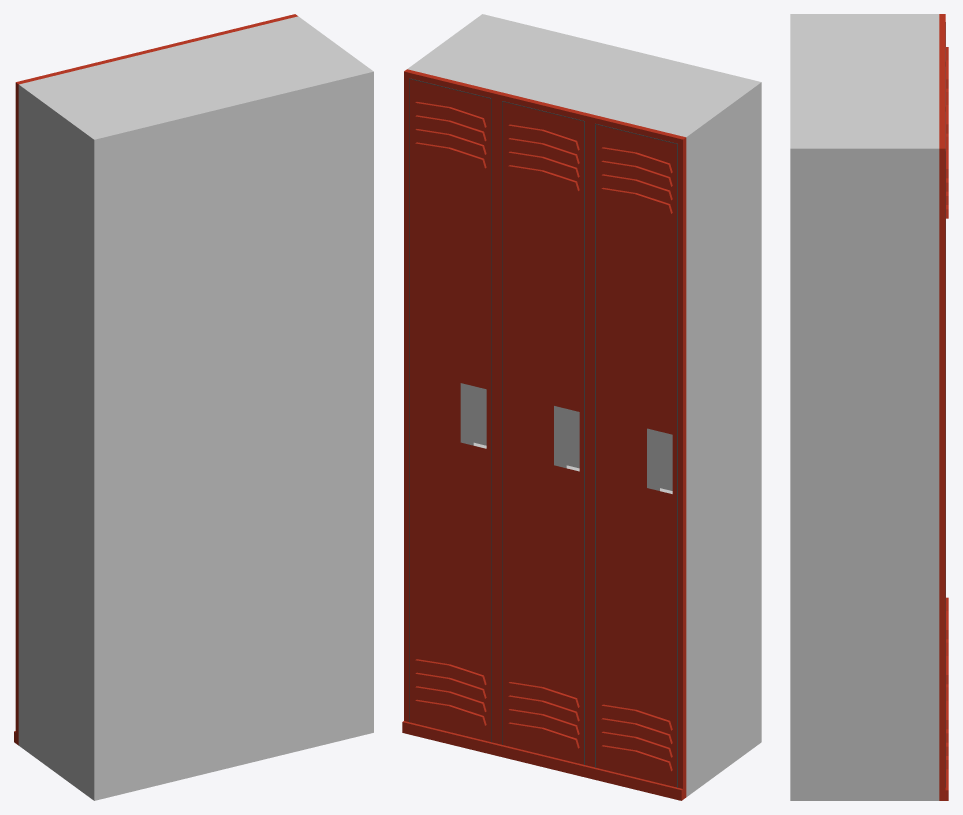
Rendered from locker_b.fbx.
3 views of the same model, side by side, from view 1: azimuth 30°, elevation 25°; view 2: azimuth 150°, elevation 25°; view 3: azimuth 270°, elevation 25° (orthographic).
Visible parts, largest first — view 1: Cube, 30:1, 43:1; view 2: Cube, 30:1, 2:1, 16:1, 44:1, Cube.001, Cube.003, Cube.002, 1:1, 29:1, 15:1, 43:1 (+24 smaller); view 3: Cube, 2:1, 43:1, 1:1.
Boxes of the visible parts, x1=… form: Cube: x1=18, y1=16, x2=373, y2=800; 30:1: x1=15, y1=59, x2=110, y2=734; 43:1: x1=16, y1=14, x2=297, y2=84; Cube: x1=407, y1=14, x2=761, y2=796; 30:1: x1=590, y1=116, x2=686, y2=788; 2:1: x1=404, y1=70, x2=497, y2=743; 16:1: x1=497, y1=92, x2=590, y2=766; 44:1: x1=402, y1=721, x2=686, y2=800; Cube.001: x1=460, y1=383, x2=486, y2=448; Cube.003: x1=647, y1=428, x2=672, y2=493; Cube.002: x1=554, y1=406, x2=579, y2=471; 1:1: x1=409, y1=78, x2=491, y2=742; 29:1: x1=595, y1=123, x2=677, y2=787; 15:1: x1=502, y1=101, x2=584, y2=764; 43:1: x1=404, y1=69, x2=685, y2=139; Cube: x1=790, y1=14, x2=939, y2=800; 2:1: x1=939, y1=104, x2=945, y2=790; 43:1: x1=939, y1=14, x2=945, y2=148; 1:1: x1=945, y1=112, x2=945, y2=787.
Bounding box in the file's own units: 68.58 × 155 × 34.1.
